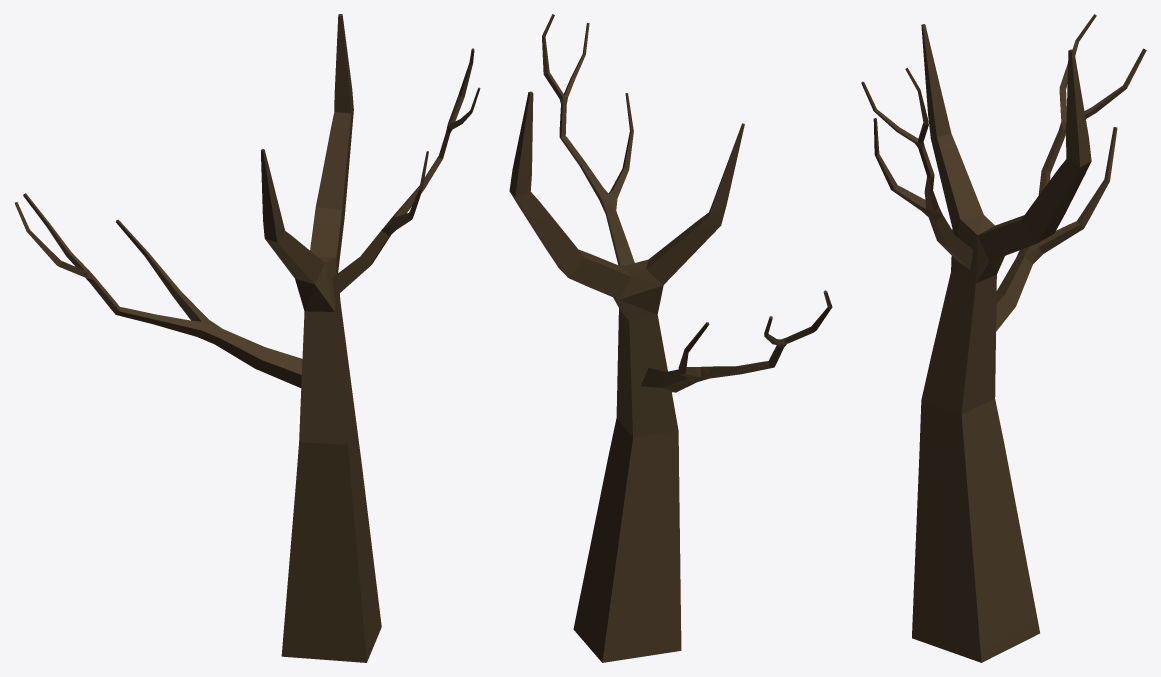
Rendered from tree-07.glb.
The picture shows the model from 3 angles, left to right: view 1: azimuth 30°, elevation 25°; view 2: azimuth 150°, elevation 25°; view 3: azimuth 270°, elevation 25°; orthographic projection. The views are drawn at different scales.
Visible parts, largest first — view 1: Tree2_2.001; view 2: Tree2_2.001; view 3: Tree2_2.001.
Part boxes in pixels (x1,y1,x2,y2): Tree2_2.001: (14,14,480,662); Tree2_2.001: (509,14,832,662); Tree2_2.001: (861,14,1146,662).
Bounding box in the file's own units: 6.13 × 9.24 × 3.84.
